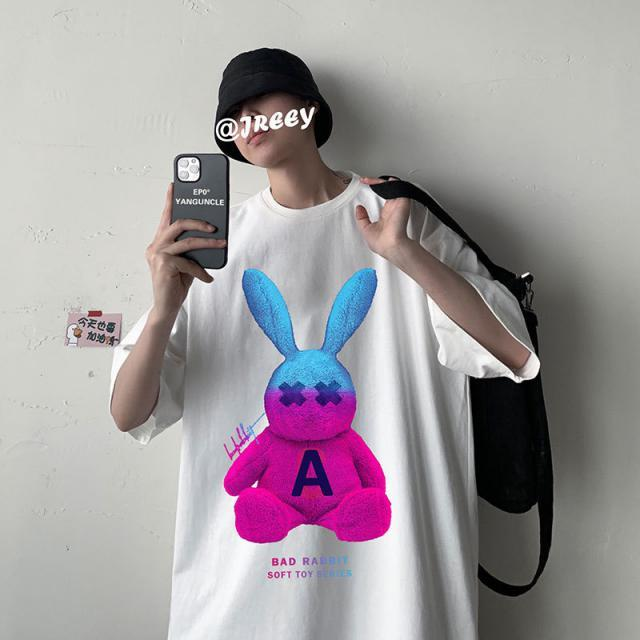Shirt: (134, 178, 544, 640)
